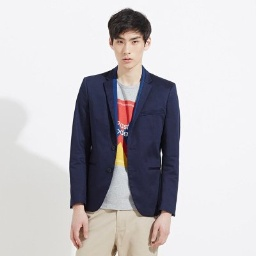face: (107, 8, 153, 72)
